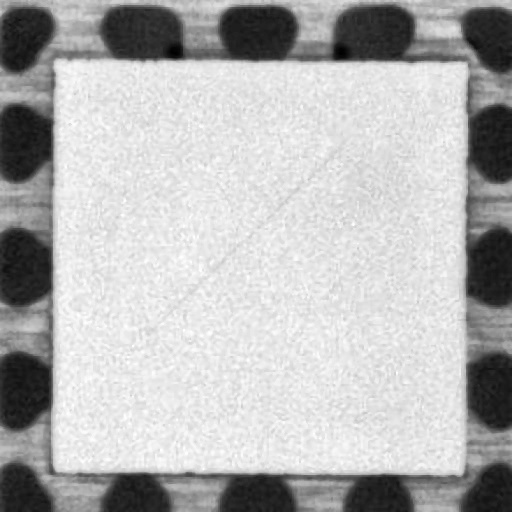DIE_CRACK: (146, 146, 336, 333)
